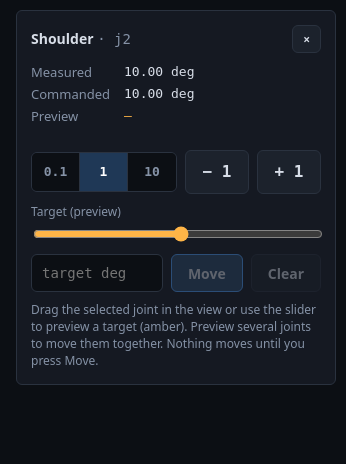
Scenario: JointPanel › accepts a typed target
Type "-12.5" into the number field named "Target value for j2" at (97, 273), box [31,254,163,292]
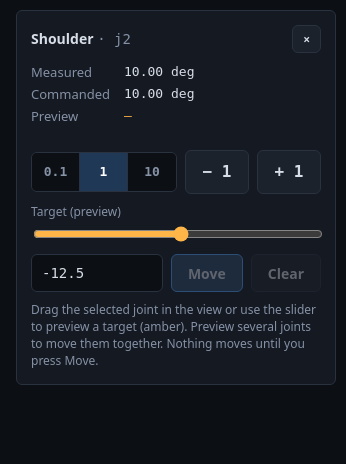
Press Enter in the number field named "Target value for j2", box [31,254,163,292]
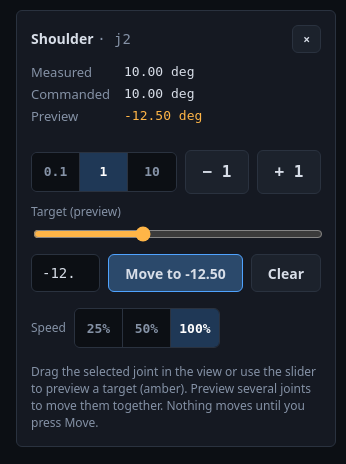
Now the button "Move to -12.50" is enabled, box [108,254,243,292]
